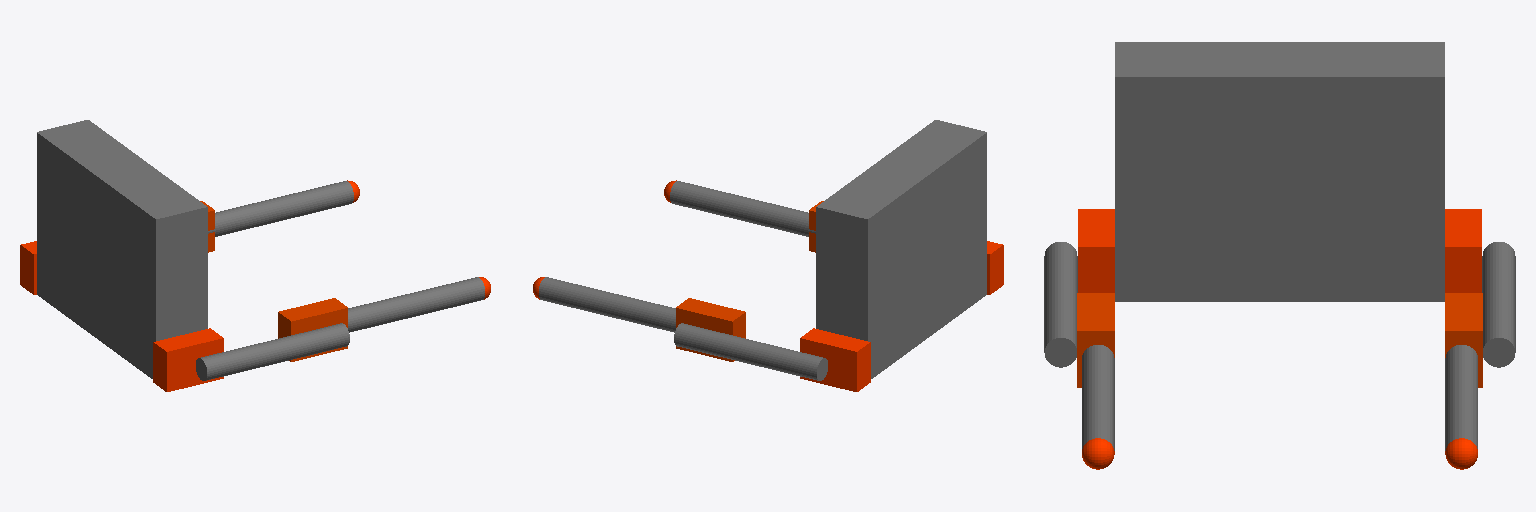
The robot description file, URDF, robot "flip_5link":
<robot name = "flip_5link">
  <material name = "link-color">
	<color rgba = "0.5 0.5 0.5 1" />
  </material>
  <material name = "Hebi-X-color">
    <color rgba = "1 0.27 0 1" />
  </material>
  <material name = "Hebi-X-color2">
    <color rgba = "0.9 0.3 0 1" />
  </material>

	<link name="world_link">
	  </link>

	<link name="x_link">
		<inertial>
			<origin xyz="0 0 0" rpy="0 0 0" />
			<mass value="1e-16" />
			<inertia ixx="1e-16" ixy="0" ixz="0" iyy="1e-16" iyz="0" izz="1e-16" />
		</inertial>
	</link>

	<link name="z_link">
		<inertial>
			<origin xyz="0 0 0" rpy="0 0 0" />
			<mass value="1e-16" />
			<inertia ixx="1e-16" ixy="0" ixz="0" iyy="1e-16" iyz="0" izz="1e-16" />
		</inertial>
	</link>

	<link name = "base">
		<inertial>
			<origin xyz = "0 0 0" />
			<mass value = "1.46" />
			<inertia ixx = "0.0" iyy = "0.0029" izz = "0.0"
ixy = "0" ixz = "0" iyz = "0" />
		</inertial>
		<visual>
			<origin xyz = "0 0 0" />
			<geometry>
			  <box size = "0.1 0.4 0.3" />
			</geometry>
            <material name = "link-color"/>
		</visual>
        <!-- Left hip motor -->
        <visual>
          <origin xyz = "0 0.2225 -0.1125" />
          <geometry>
            <box size = "0.11 0.045 0.075" />
          </geometry>
          <material name = "Hebi-X-color"/>
        </visual>
        <!-- Right hip motor -->
        <visual>
          <origin xyz = "0 -0.2225 -0.1125" />
          <geometry>
            <box size = "0.11 0.045 0.075" />
          </geometry>
          <material name = "Hebi-X-color"/>
        </visual>
	</link>

	<link name = "left_thigh">
		<inertial>
			<origin xyz = "0.2176 0 0" />
			<mass value = "0.8112" />
			<inertia ixx = "0.0" iyy = "0.00709" izz = "0.0"
	ixy = "0" ixz = "0" iyz = "0" />
		</inertial>
		<visual>
		  <!-- <origin rpy="0 1.57075 0" xyz = "0.138  0.265 -0.1125" /> -->
          <origin rpy = "0 1.57075 0" xyz = "0.138 0 0"/>
			<geometry>
			  <cylinder radius = "0.02" length = "0.2755"  />
			</geometry>
			<material name = "link-color"/>
		</visual>
        <!-- Left knee motor -->
        <visual>
          <!-- <origin rpy = "-1.57075 0 0" xyz = "0.2755 -0.0225 0" /> -->
          <origin xyz = "0.2405 0 -0.04225"/>
          <geometry>
            <box size = "0.11 0.075 0.045" />
          </geometry>
          <material name = "Hebi-X-color2"/>
        </visual>
	</link>

	<joint name="virtual_x" type="prismatic">
    <parent link="world_link" />
    <child link="x_link" />
    <origin xyz="0 0 0" />
    <axis xyz="1 0 0" />
		<limit velocity="1e16" effort="1e16"/>
    <dynamics damping="0.0" friction="0.0"/>
  </joint>

	<joint name="virtual_z" type="prismatic">
    <parent link="x_link" />
    <child link="z_link" />
    <origin xyz="0 0 0" />
    <axis xyz="0 0 1" />
		<limit velocity="1e16" effort="1e16"/>
    <dynamics damping="0.0" friction="0.0"/>
  </joint>

	<joint name="virtual_rot" type="revolute">
    <parent link="z_link" />
    <child link="base" />
    <origin xyz="0 0 0" />
    <axis xyz="0 1 0" />
		<limit velocity="1e16" effort="1e16"/>
    <dynamics damping="0.0" friction="0.0"/>
  </joint>

	<joint name = "left_hip" type = "revolute">
		<parent link = "base" />
		<child link = "left_thigh" />
	    <origin rpy = "-1.57075 0  0" xyz = "0. 0.265 -0.1125" />
		<axis xyz = "0 0 1" />
        <limit lower="0.0" upper="0.548" velocity="0.5" effort="30.0"/>
	</joint>

	<link name = "left_shank">
		<inertial>
			<origin xyz = "0.1445 0 0" />
			<mass value = "0.3037" />
			<inertia ixx = "0.0" iyy = "0.00398" izz = "0.0"
	ixy = "0" ixz = "0" iyz = "0" />
		</inertial>
		<visual>
          <origin rpy = "0 1.57075 0" xyz = "0.144 0 0"/>
			<geometry>
			  <cylinder radius = "0.02" length = "0.288"/> <!-- total 0.308 (cylinder + phere) -->
			</geometry>
			<material name = "link-color"/>
		</visual>
        <visual>
          <origin rpy = "0 0 0" xyz = "0.288 0 0"/>
			<geometry>
			  <sphere radius = "0.02"/>
			</geometry>
            <!-- <material name = "link-color"/> -->
            <material name = "Hebi-X-color"/>
        </visual>
	</link>

	<joint name = "left_knee" type = "revolute">
		<parent link = "left_thigh" />
		<child link = "left_shank" />
	    <origin rpy = "3.141592 0 0" xyz = "0.2755 0 -0.045" />
		<axis xyz = "0 0 -1" />
        <limit lower="0.0" upper="0.548" velocity="0.5" effort="30.0"/>
	</joint>

    <!-- right leg -->
	<link name = "right_thigh">
		<inertial>
			<origin xyz = "0.2176 0 0" />
			<mass value = "0.8112" />
			<inertia ixx = "0.0" iyy = "0.00709" izz = "0.0"
	ixy = "0" ixz = "0" iyz = "0" />
		</inertial>
		<visual>
          <origin rpy = "0 1.57075 0" xyz = "0.138 0 0"/>
			<geometry>
			  <cylinder radius = "0.02" length = "0.2755"  />
			</geometry>
			<material name = "link-color"/>
		</visual>
        <!-- right knee motor -->
        <visual>
          <origin xyz = "0.2405 0 -0.04225"/>
          <geometry>
            <box size = "0.11 0.075 0.045" />
          </geometry>
          <material name = "Hebi-X-color2"/>
        </visual>
	</link>

	<joint name = "right_hip" type = "revolute">
		<parent link = "base" />
		<child link = "right_thigh" />
	    <origin rpy = "1.57075 0  0" xyz = "0. -0.265 -0.1125" />
		<axis xyz = "0 0 -1" />
        <limit lower="0.0" upper="0.548" velocity="0.5" effort="30.0"/>
	</joint>

	<link name = "right_shank">
		<inertial>
			<origin xyz = "0.1445 0 0" />
			<mass value = "0.3037" />
			<inertia ixx = "0.0" iyy = "0.00398" izz = "0.0"
	ixy = "0" ixz = "0" iyz = "0" />
		</inertial>
		<visual>
          <origin rpy = "0 1.57075 0" xyz = "0.144 0 0"/>
			<geometry>
			  <cylinder radius = "0.02" length = "0.288"/> <!-- total 0.308 (cylinder + phere) -->
			</geometry>
			<material name = "link-color"/>
		</visual>
        <visual>
          <origin rpy = "0 0 0" xyz = "0.288 0 0"/>
			<geometry>
			  <sphere radius = "0.02"/>
			</geometry>
            <!-- <material name = "link-color"/> -->
            <material name = "Hebi-X-color"/>
        </visual>
	</link>

	<joint name = "right_knee" type = "revolute">
		<parent link = "right_thigh" />
		<child link = "right_shank" />
	    <origin rpy = "3.141592 0 0" xyz = "0.2755 0 -0.045" />
		<axis xyz = "0 0 1" />
        <limit lower="0.0" upper="0.548" velocity="0.5" effort="30.0"/>
	</joint>
</robot>

--- Render facts (derived) ---
The picture shows the robot from 3 angles, left to right: view 1: azimuth 30°, elevation 25°; view 2: azimuth 150°, elevation 25°; view 3: azimuth 270°, elevation 25°; orthographic projection.
Robot: flip_5link — 8 links, 7 joints (5 revolute, 2 prismatic); root link world_link; default pose: every joint at zero.
Links seen in each view (by area): view 1: base, right_thigh, left_shank, right_shank; view 2: base, left_thigh, right_shank, left_shank; view 3: base, left_thigh, right_thigh, left_shank, right_shank.
Boxes of the visible links, x1,y1,x2,y2 form: base: [20, 120, 223, 391]; right_thigh: [196, 298, 349, 380]; left_shank: [208, 180, 359, 236]; right_shank: [348, 277, 490, 332]; base: [800, 120, 1003, 391]; left_thigh: [674, 298, 827, 380]; right_shank: [664, 180, 815, 236]; left_shank: [533, 277, 675, 332]; base: [1078, 42, 1481, 301]; left_thigh: [1445, 242, 1515, 387]; right_thigh: [1044, 242, 1114, 387]; left_shank: [1445, 345, 1477, 469]; right_shank: [1082, 345, 1114, 469].
Bounding box of the posed robot: 0.6385 × 0.57 × 0.3 m (x, y, z).
Geometry: primitives only (box / cylinder / sphere), no mesh files.